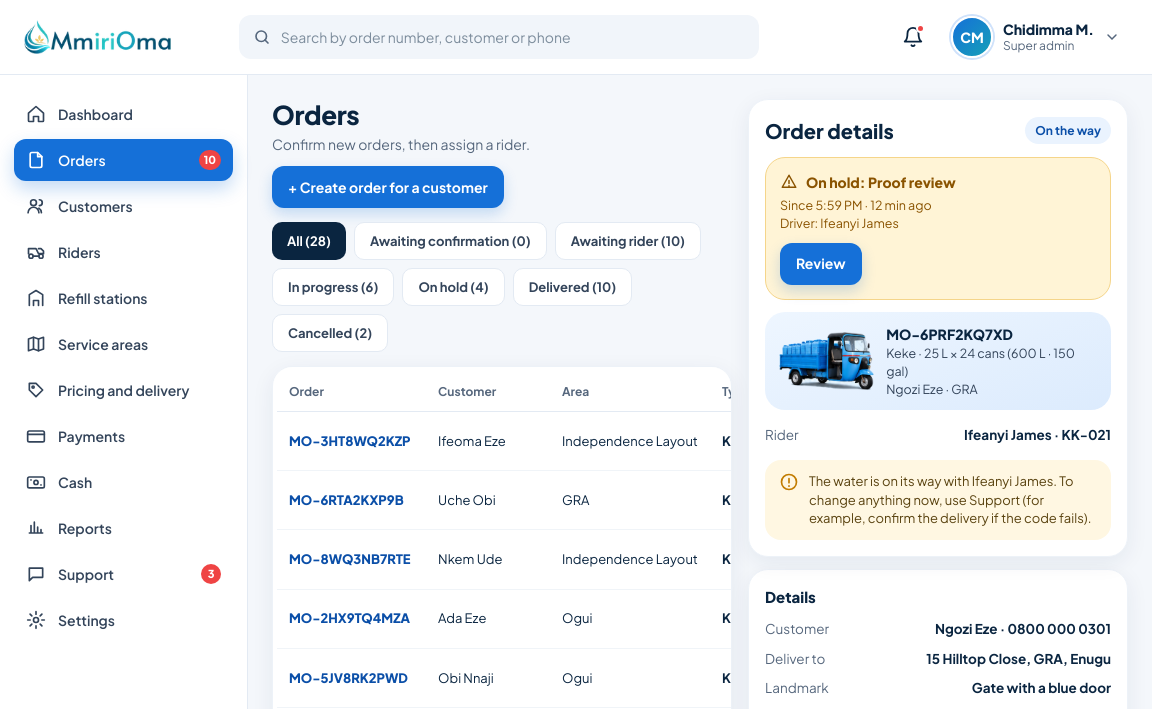
admin pages › asks for a note before anything is sent
Click the button "Review". click: (821, 264)
box: x1=780 y1=242 x2=862 y2=284
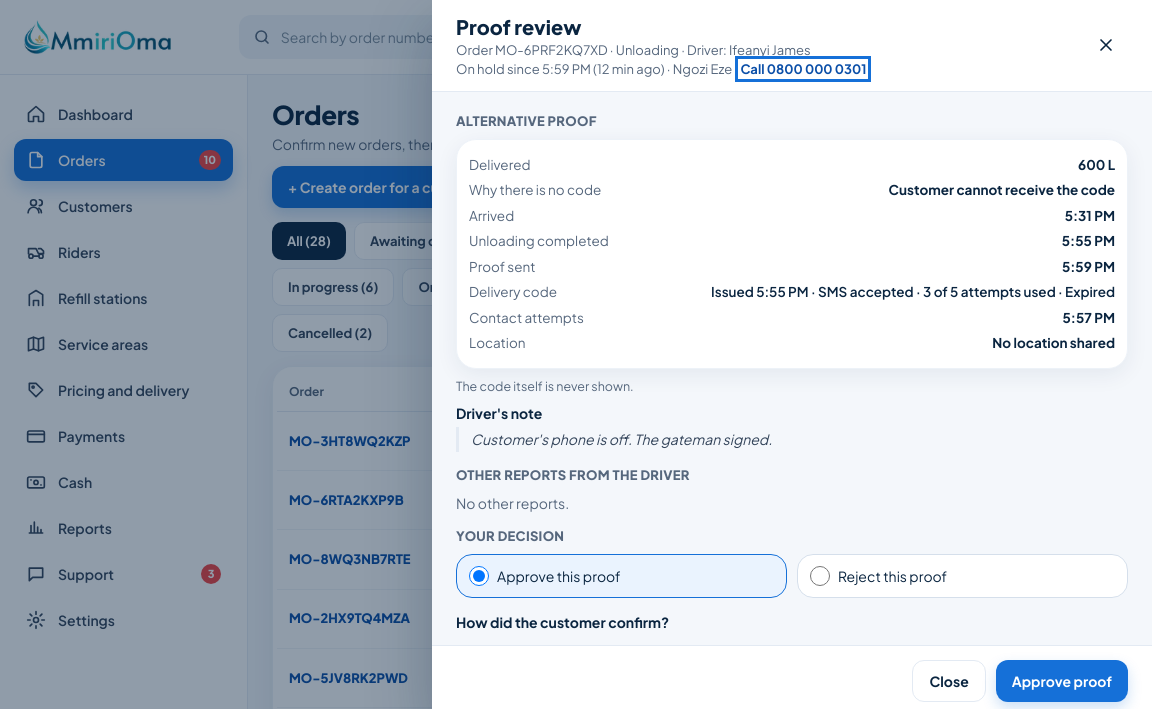
Check: the heading "Alternative proof" is shown, box x1=456 y1=113 x2=597 y2=129
Click the button "Approve proof". click: (1062, 681)
box: x1=996 y1=660 x2=1128 y2=702
(page scrolled)
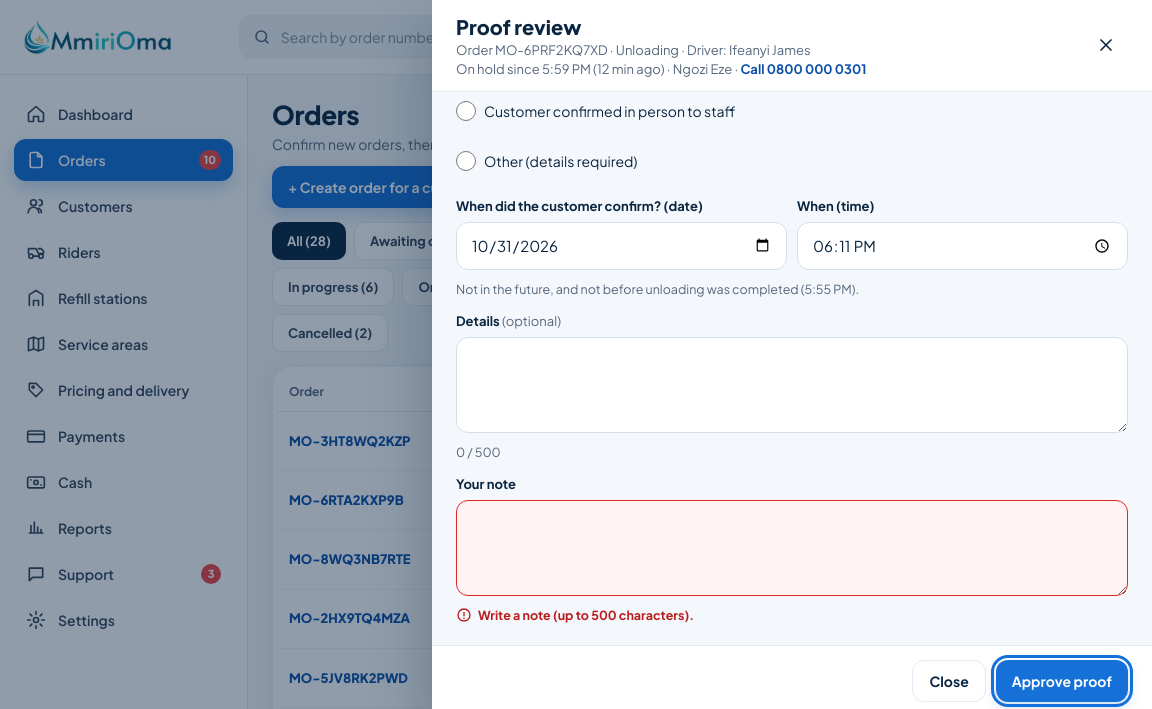
Check: the text "Write a note (up to 500 characters)." is shown, box x1=456 y1=607 x2=694 y2=624
